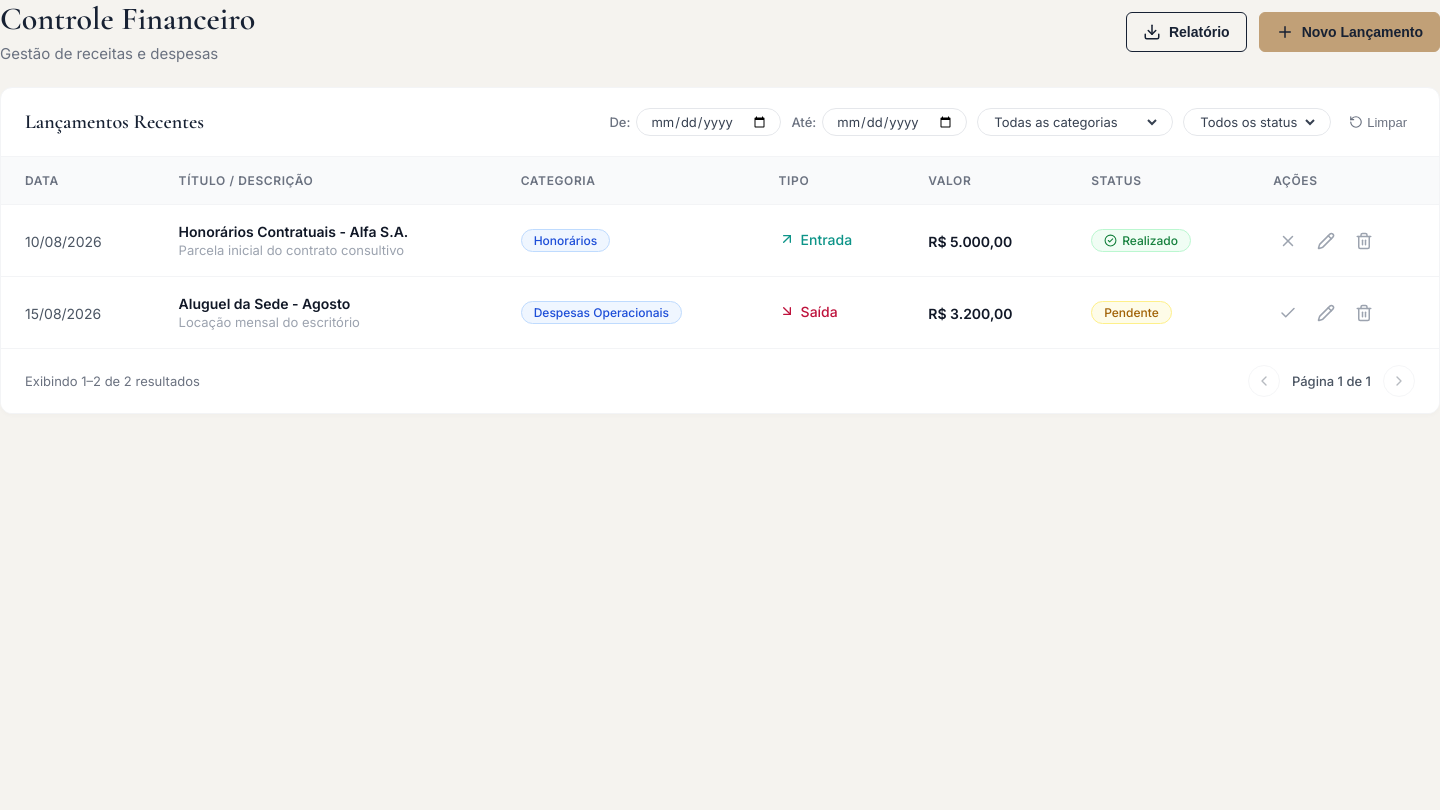
Test: Financas Integration Tests (Full Frontend Stack) › edita um lançamento existente enviando PUT /lancamentos/:id e atualiza a linha na UI
Expected: the text "Honorários Contratuais - Alfa S.A." is shown, [179,223,408,240]
Click the button named "Editar lançamento" in the row of "10/08/2026". click: (1326, 241)
box: [1311,226,1341,256]
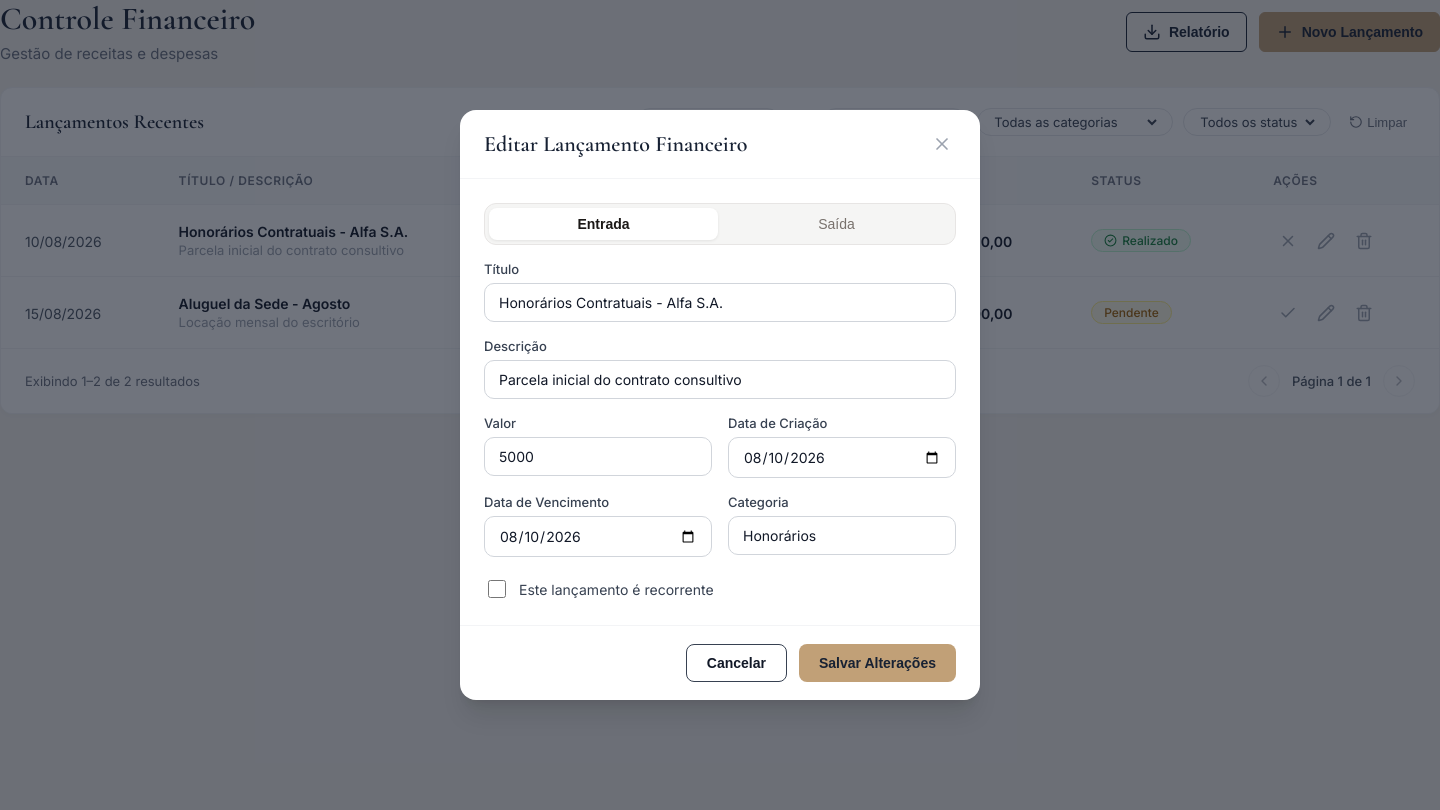
Now the field labelled "Título" holds "Honorários Contratuais - Alfa S.A."
Replace the text in the field labelled "Título" with "Honorários Contratuais - Alfa S.A. (Aditivo)". click: (720, 302)
box: [484,283,956,322]
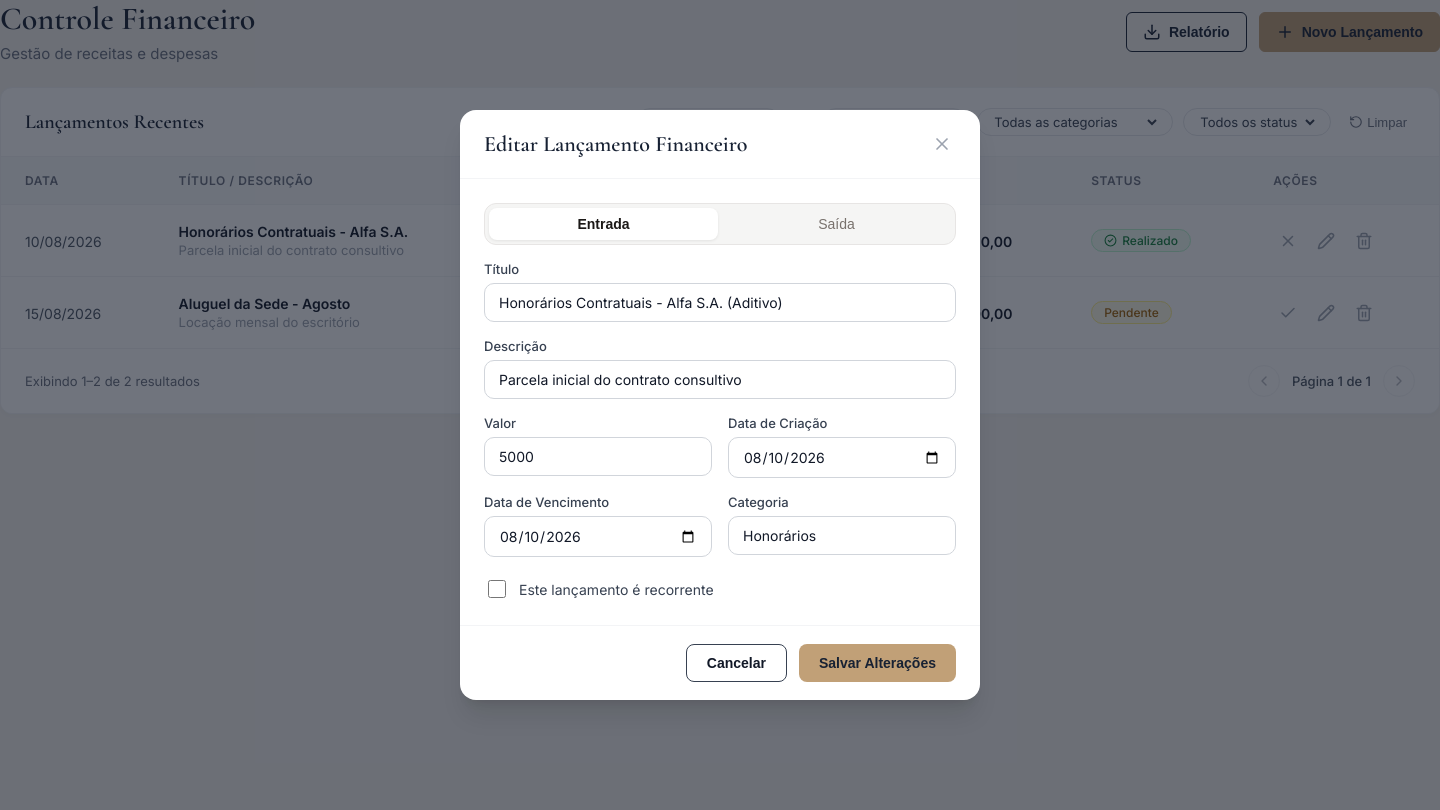
Replace the text in the field labelled "Valor" with "7500". click: (598, 456)
box: [484,437,712,476]
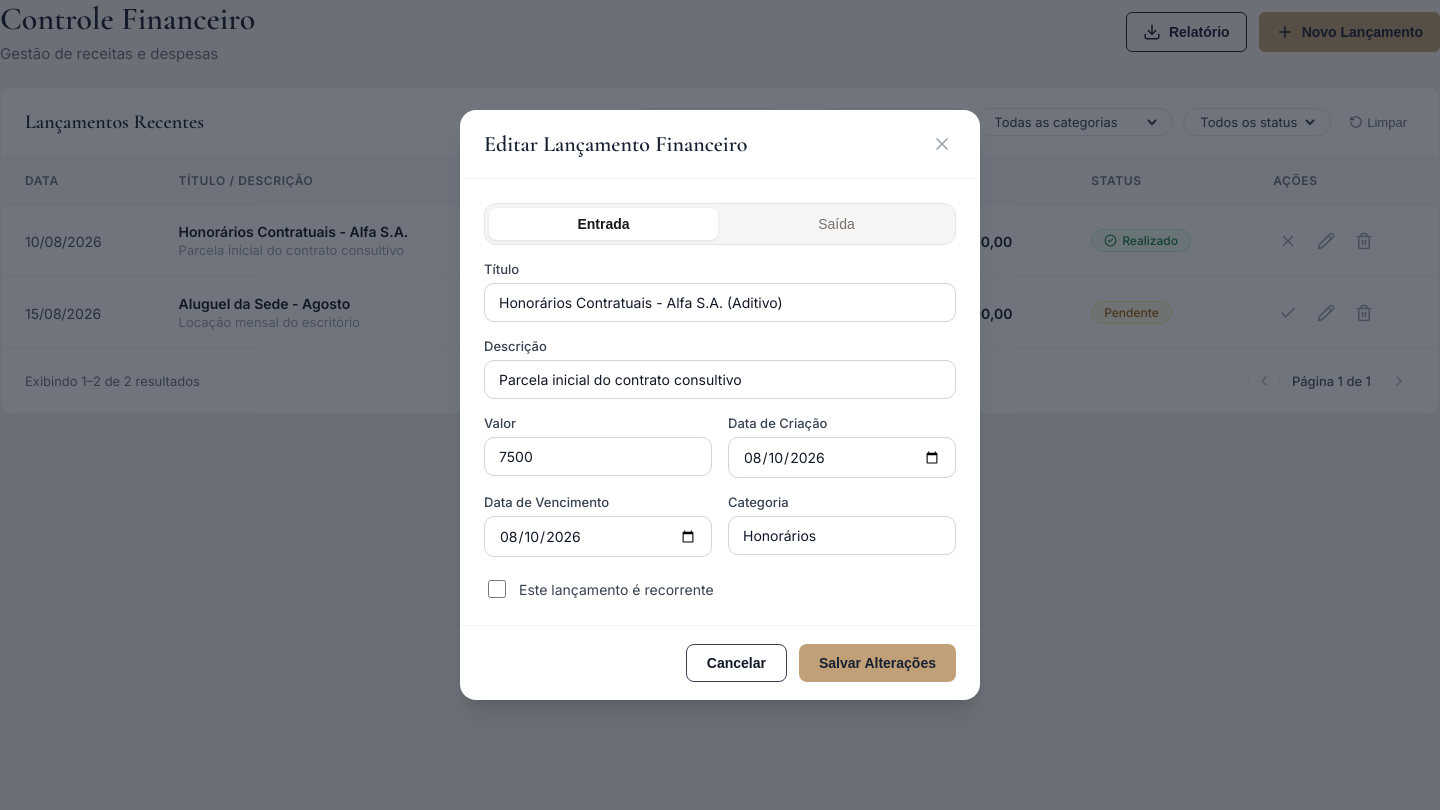
Click the button "Salvar Alterações". click: (878, 663)
box: [799,644,956,682]
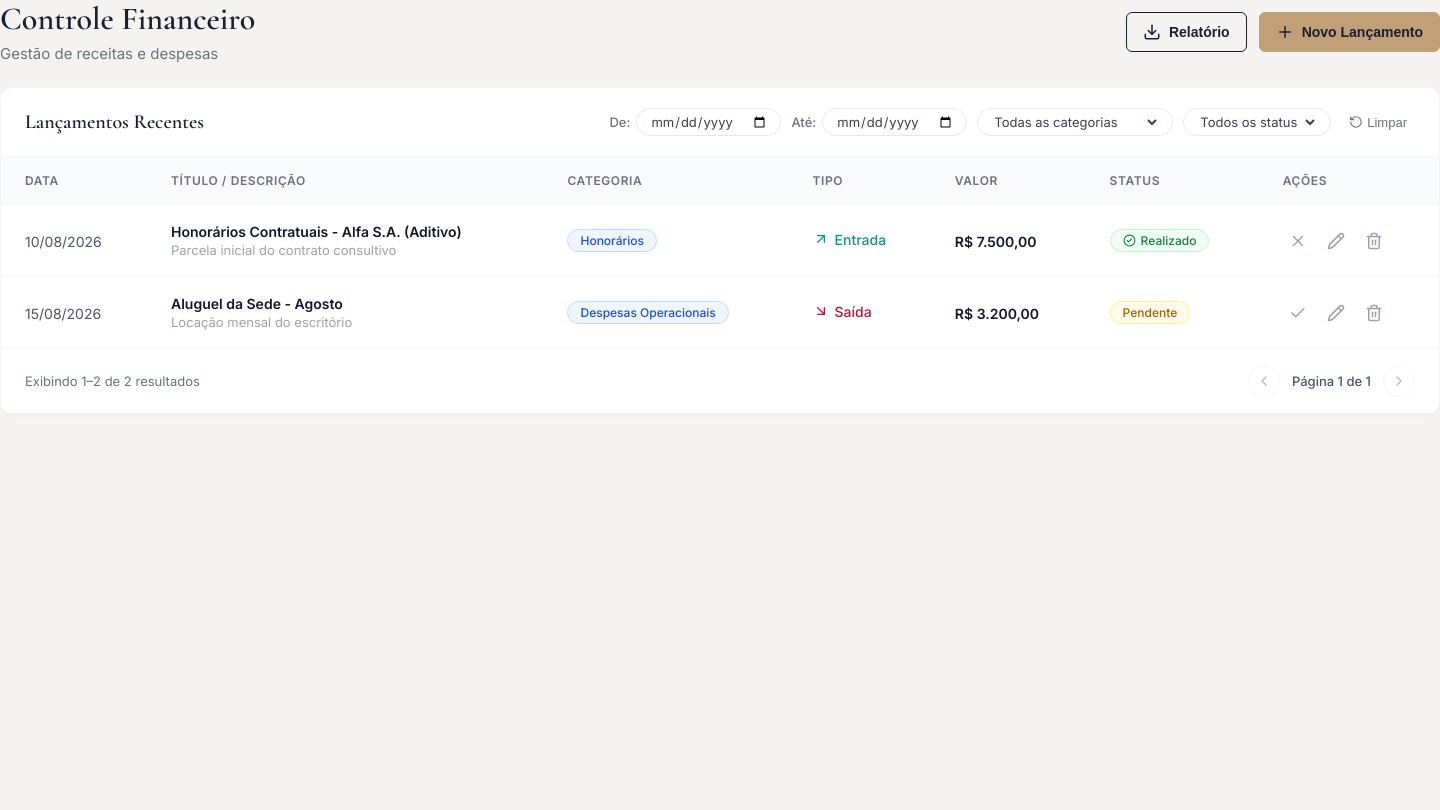
Now the text "Honorários Contratuais - Alfa S.A. (Aditivo)" is shown, box [171,223,462,240]
Now the text "R$ 7.500,00" is shown, box [955,233,1036,250]
